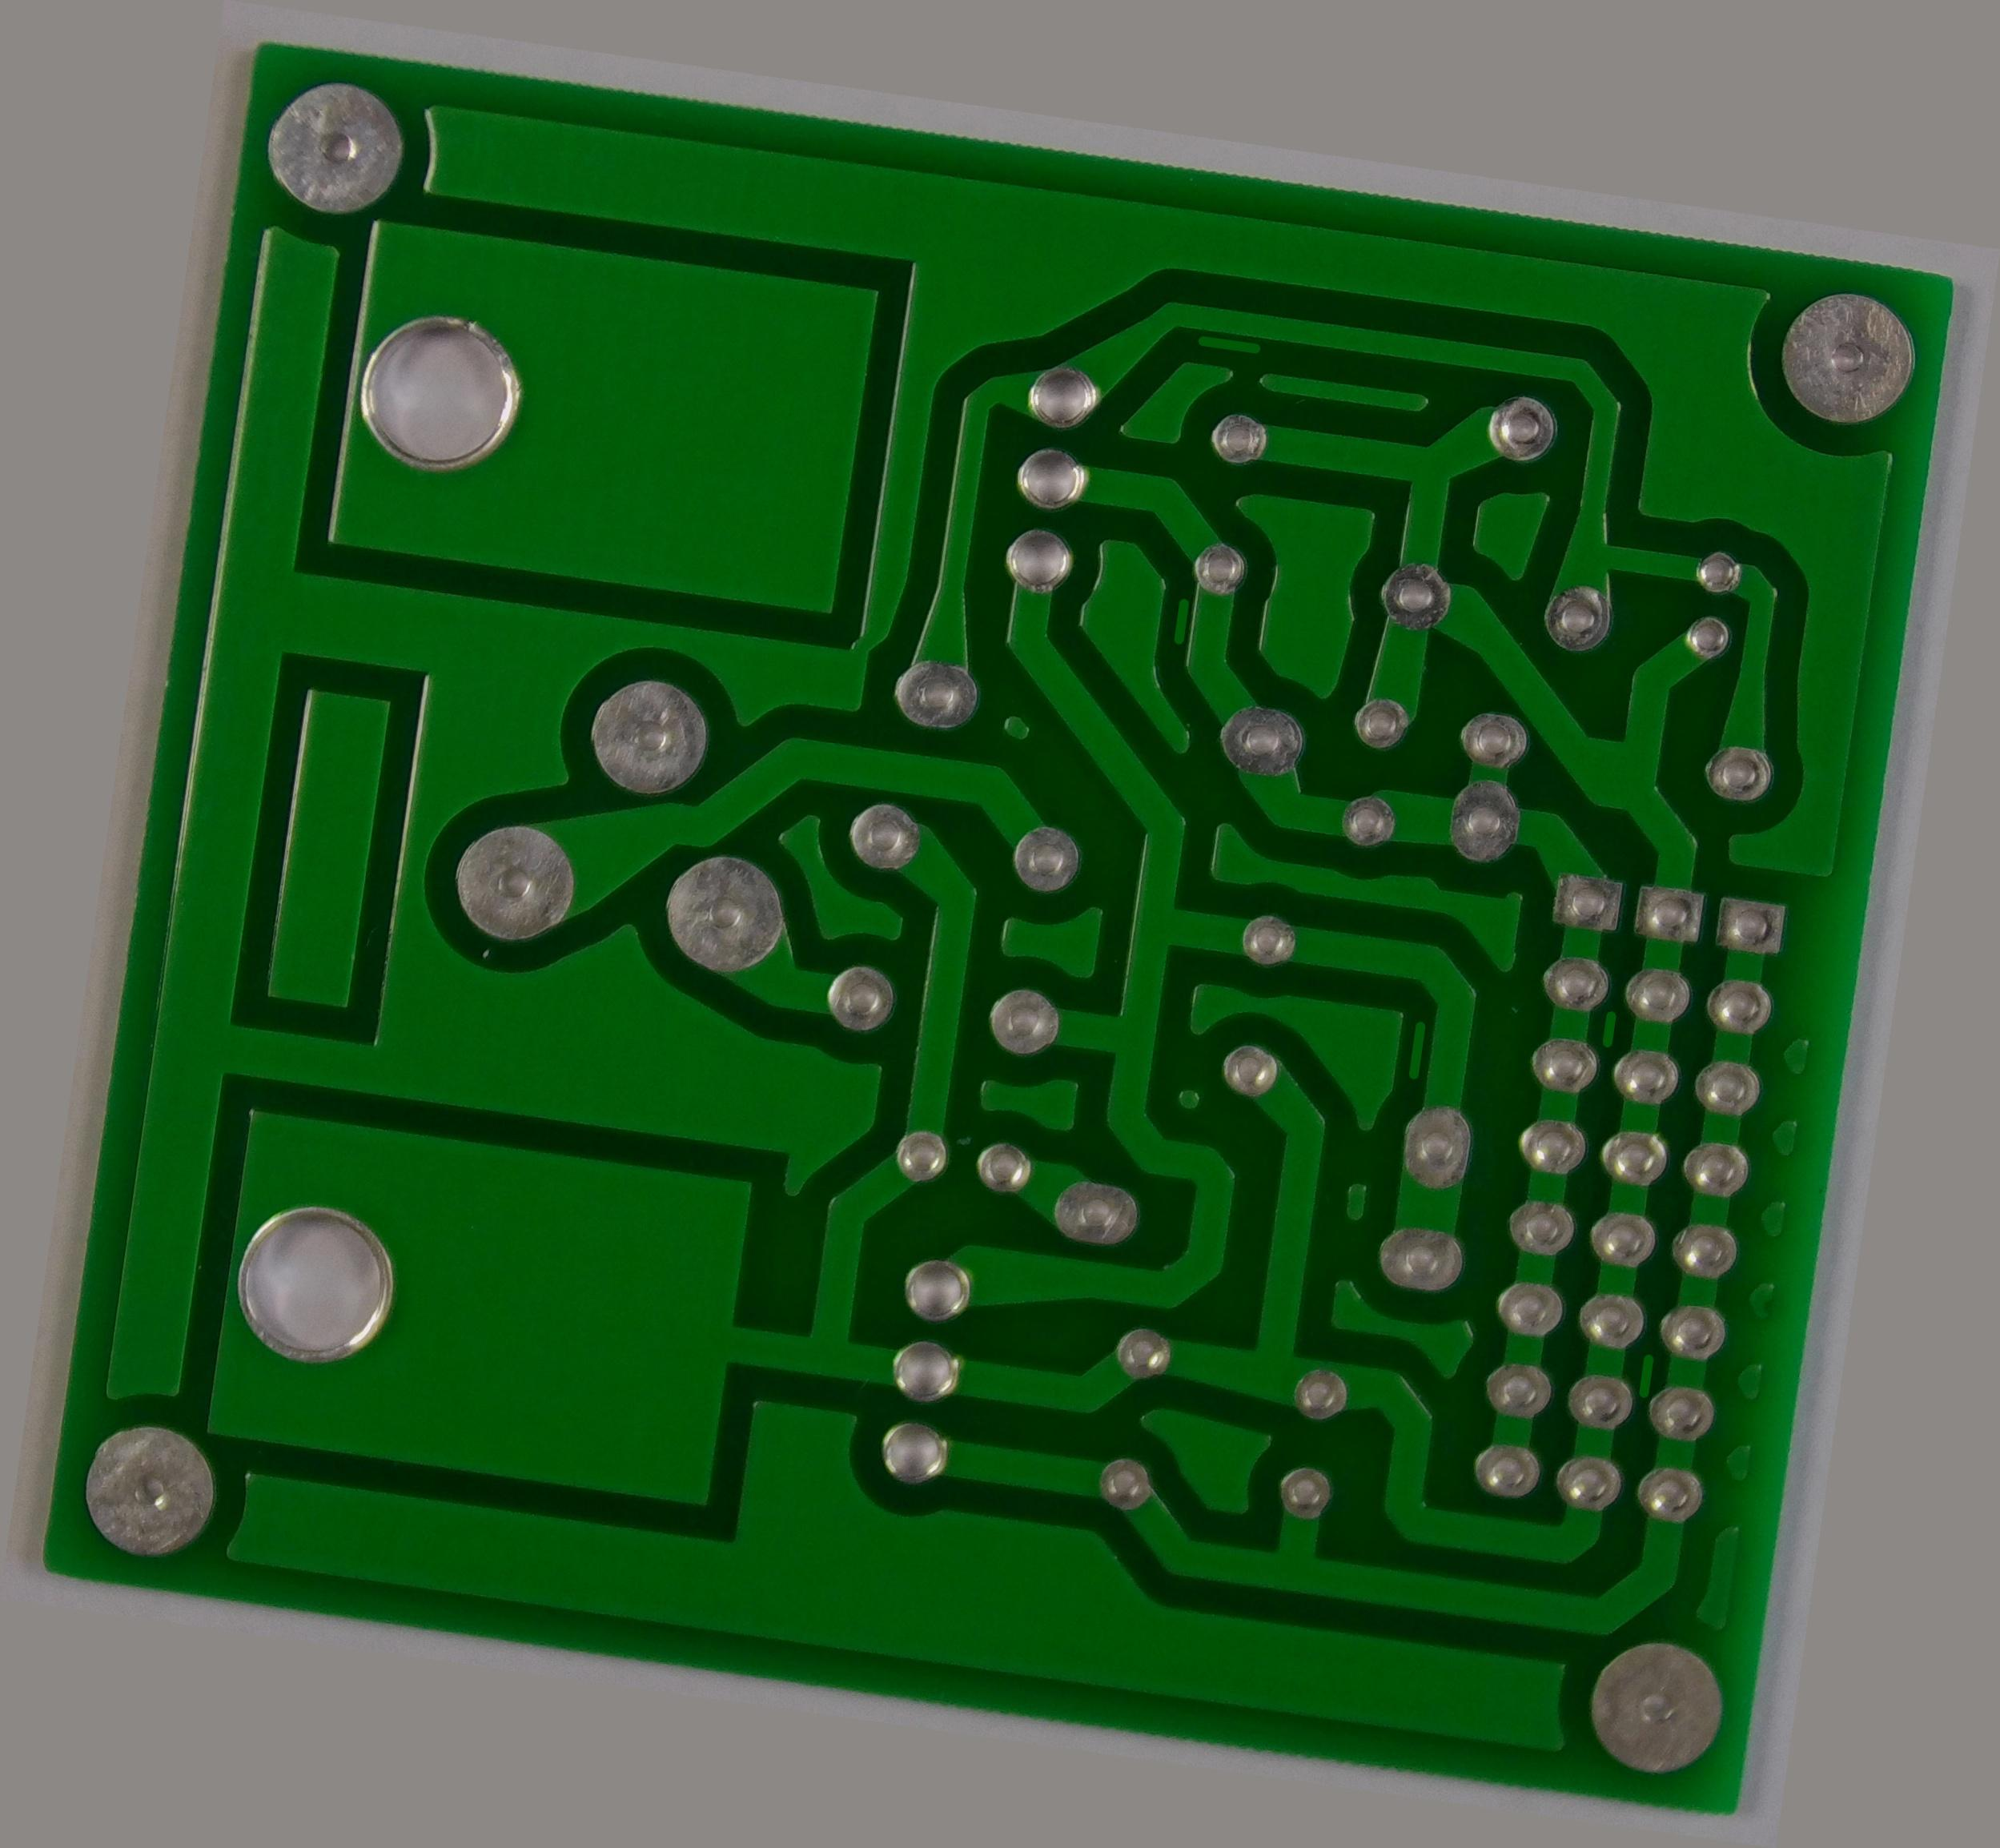spurious_copper: (1179, 320, 1272, 371), (1585, 996, 1636, 1062), (1394, 1014, 1437, 1089), (1160, 583, 1206, 655), (1625, 1345, 1664, 1407)
